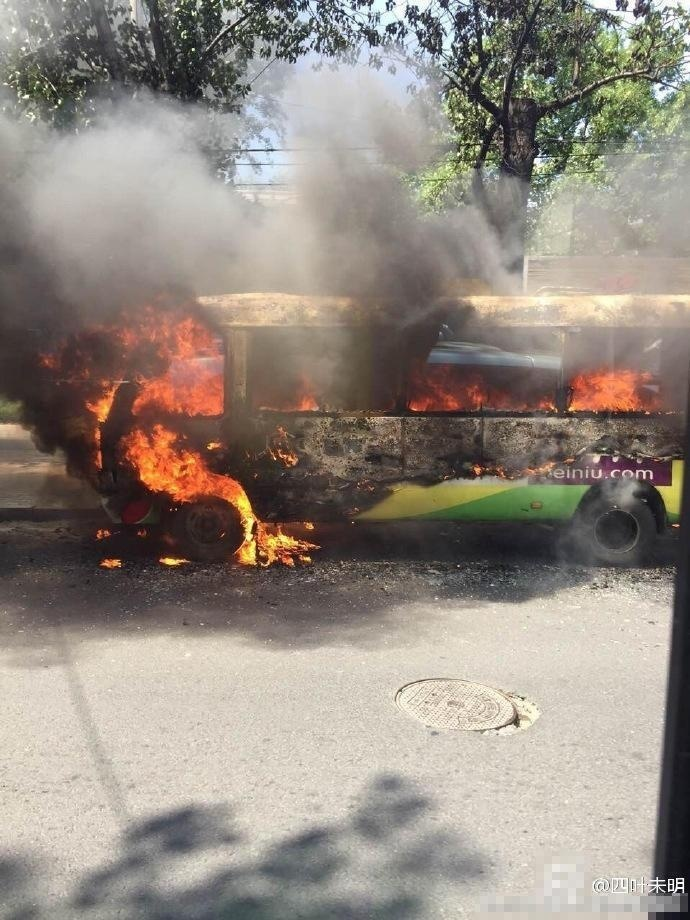fire: (63, 300, 316, 571), (399, 362, 668, 416)
